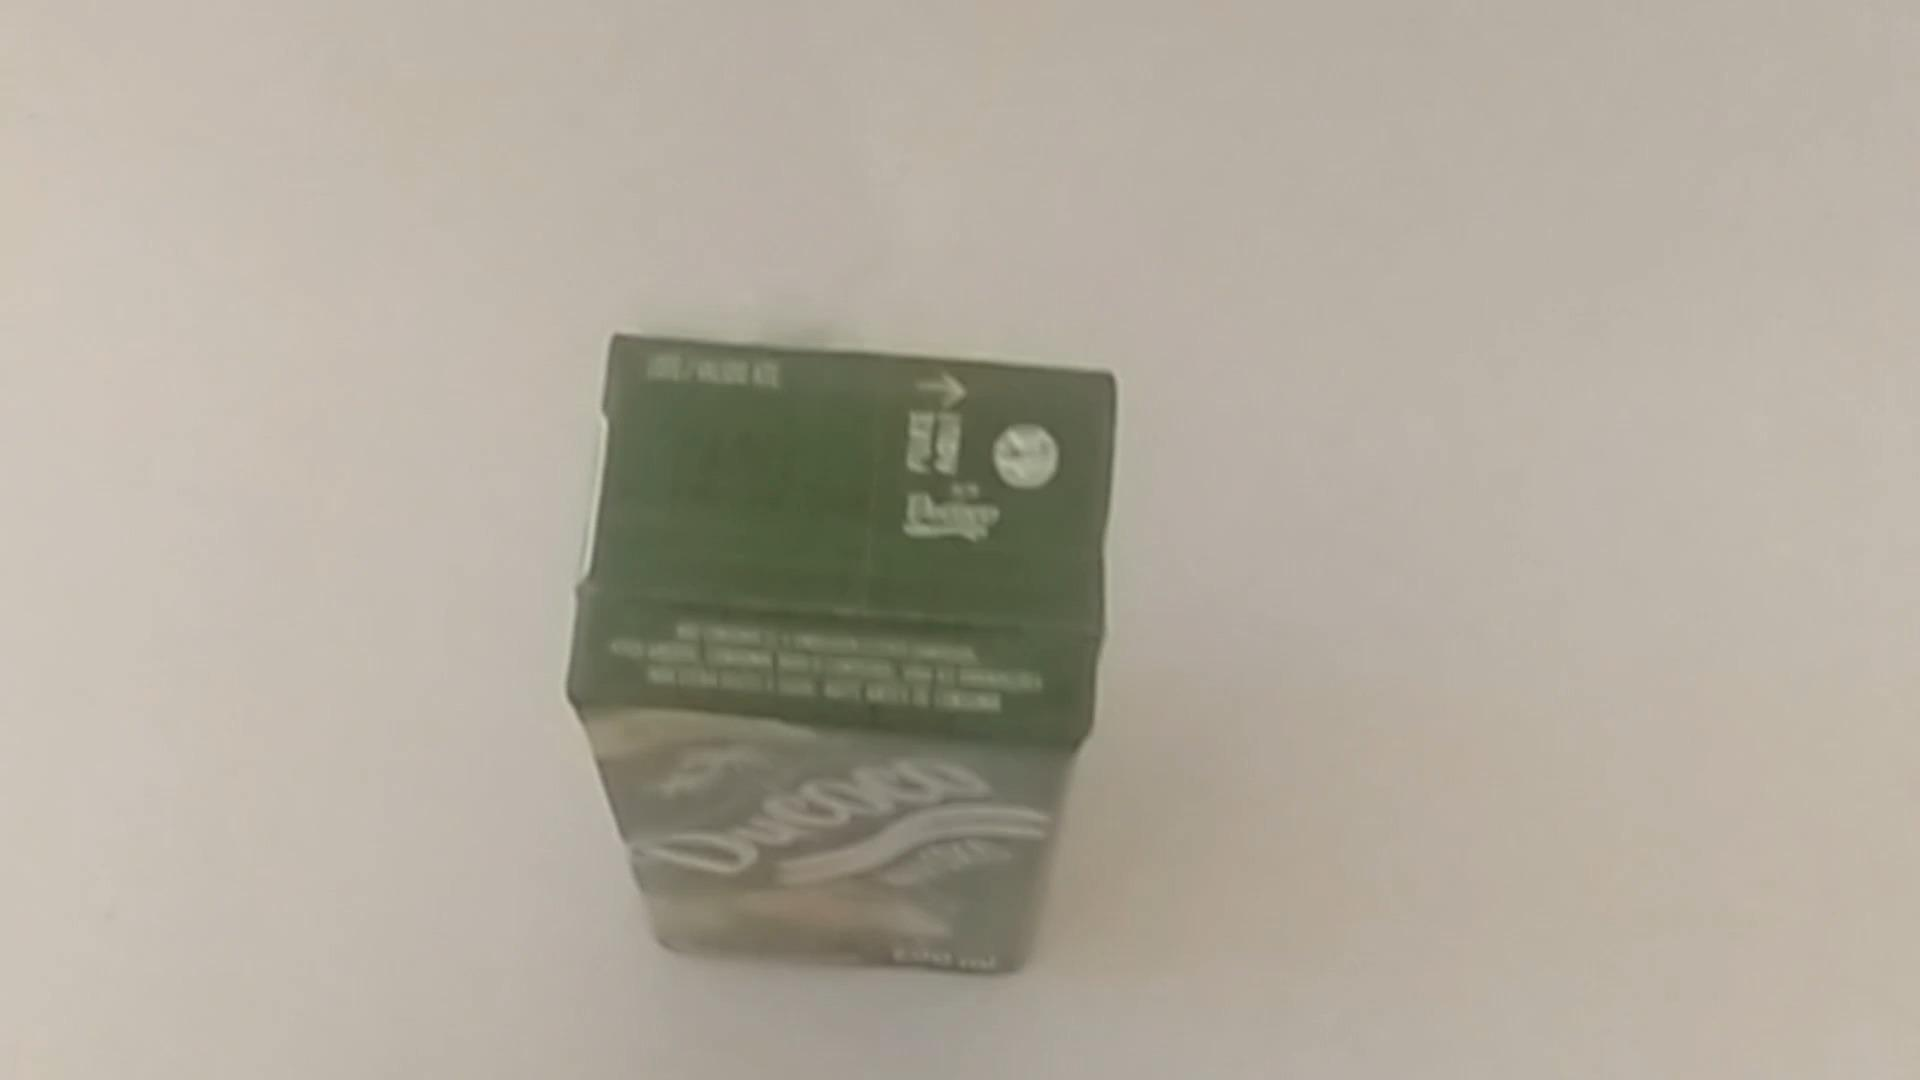coco: (564, 332, 1116, 984)
